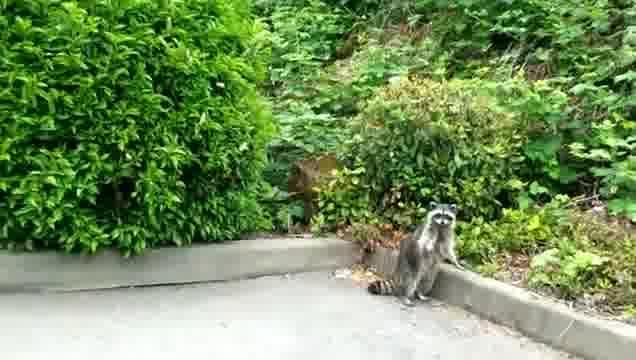raccoon: (369, 201, 469, 312)
